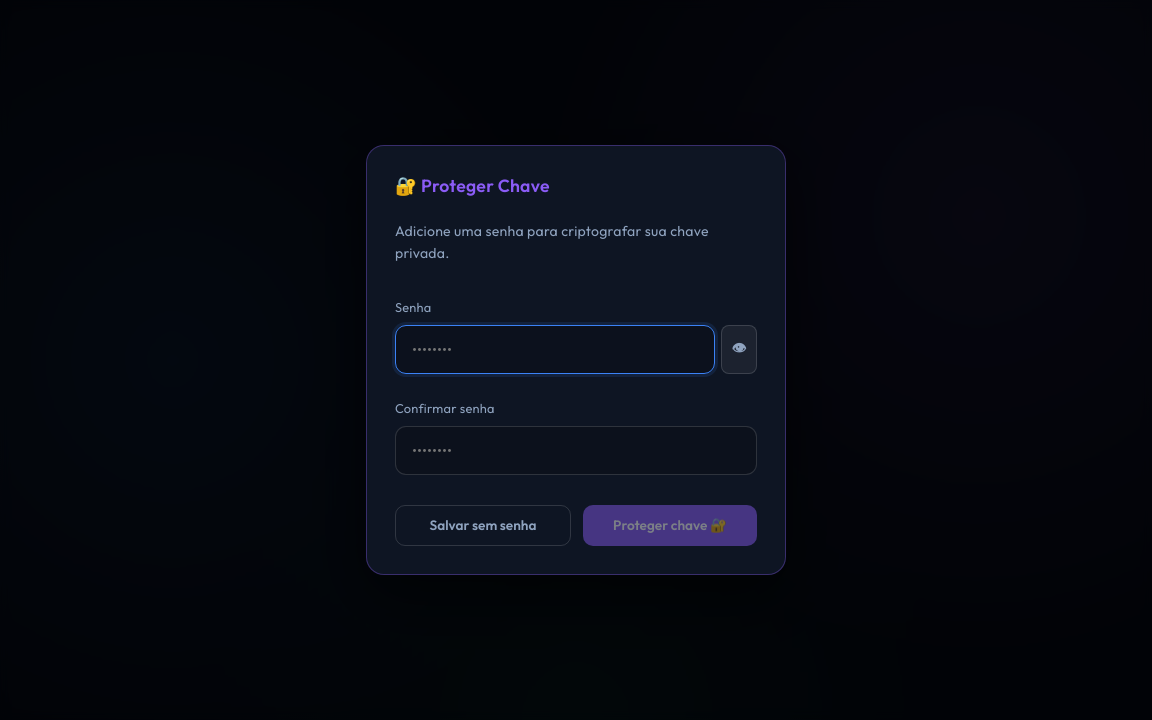
Scenario: KeyProtectionModal — validação › deve exibir erro quando senha tem menos de 6 caracteres
The image size is (1152, 720).
Type "12345" into the 1st password field with placeholder "••••••••". click: (555, 350)
box: [395, 325, 715, 374]
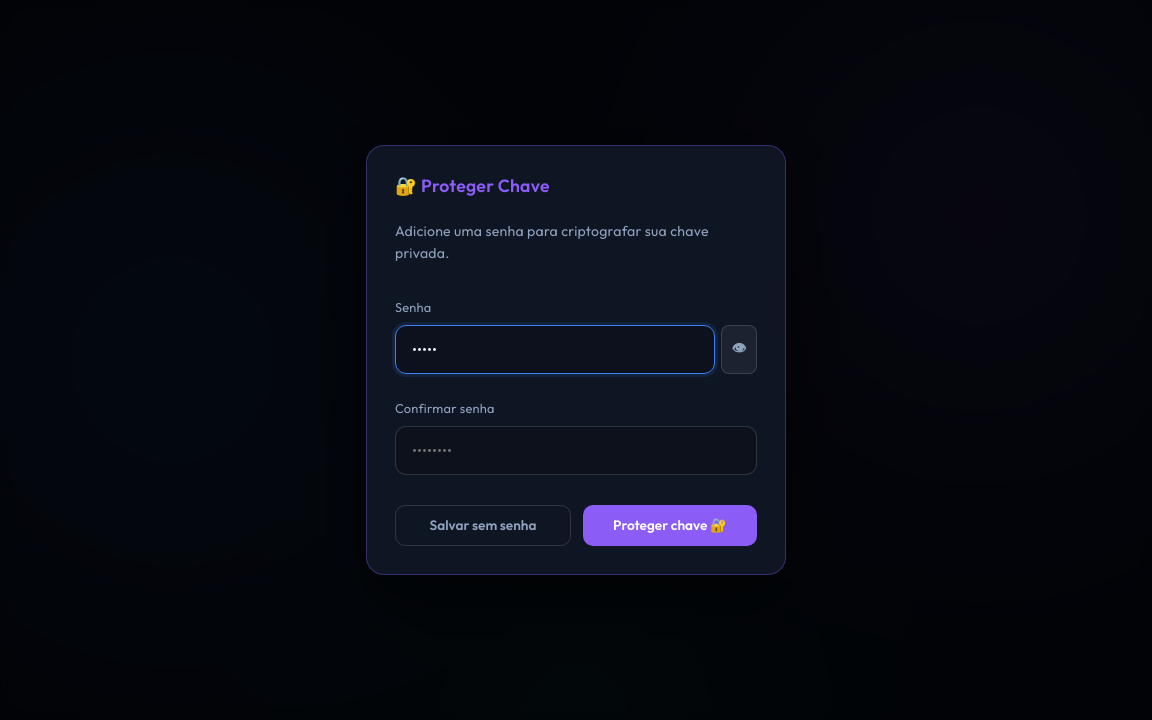
Type "12345" into the password field with placeholder "••••••••". click: (576, 450)
box: [395, 426, 757, 475]
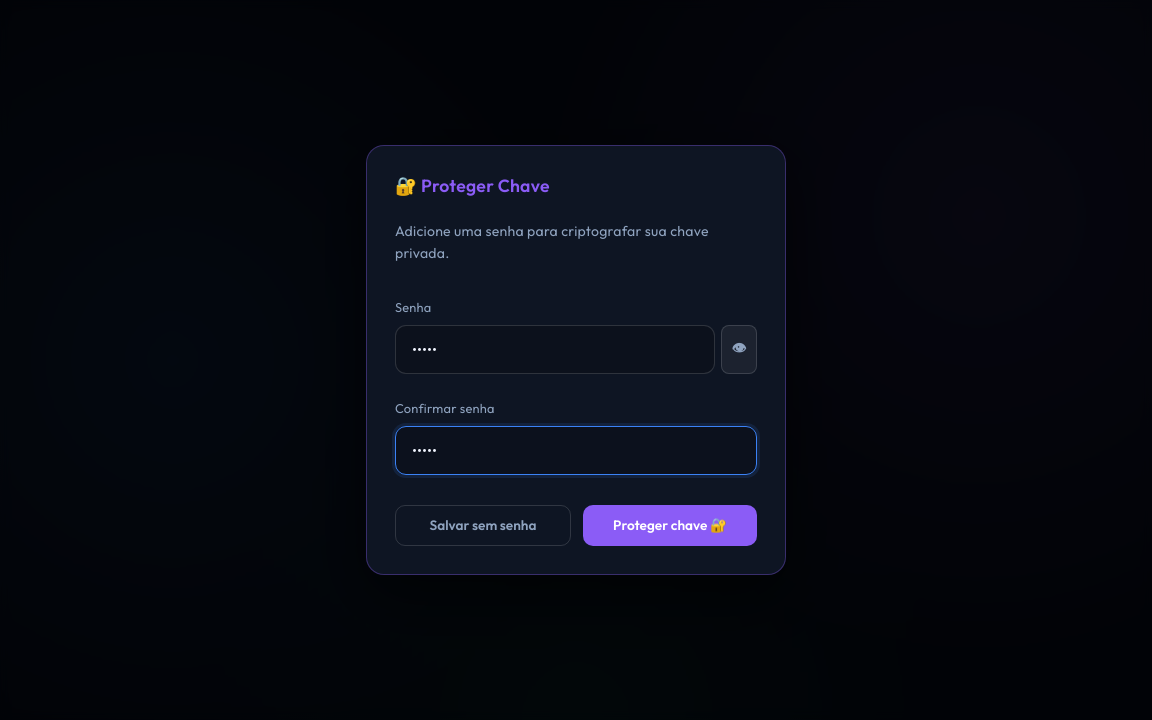
Click the button "Proteger chave 🔐". click: (670, 525)
box: [583, 505, 757, 546]
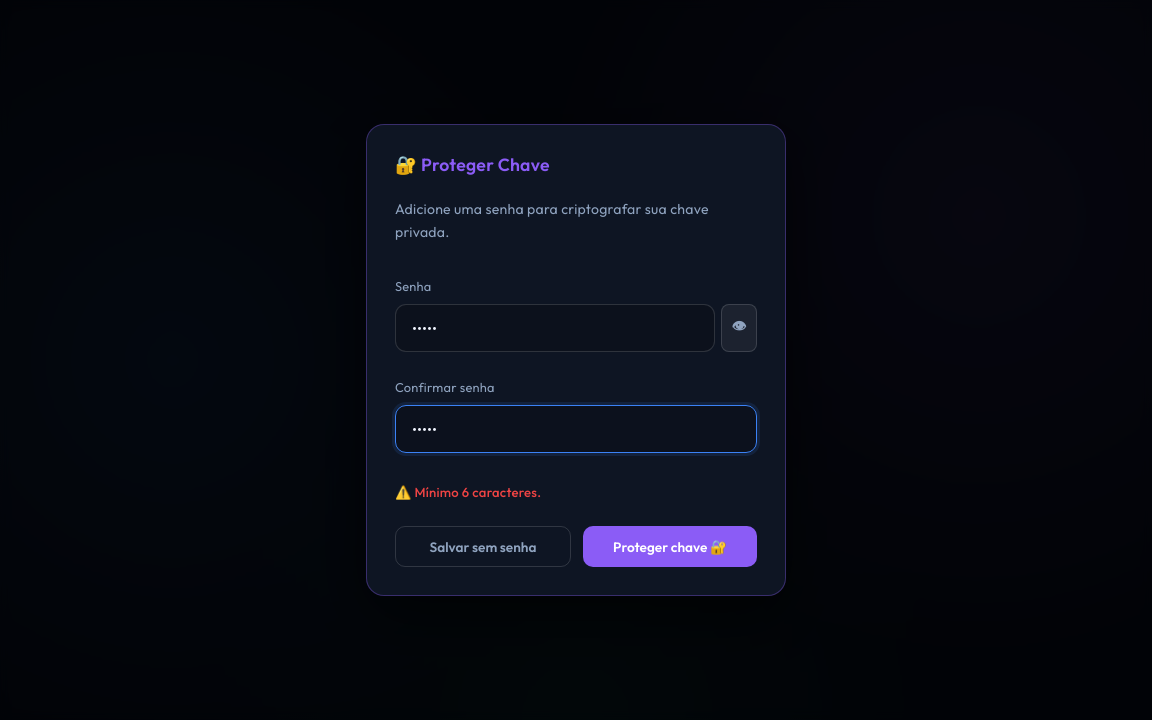
expect the text "⚠️ Mínimo 6 caracteres." is shown: met, box [395, 484, 541, 500]
